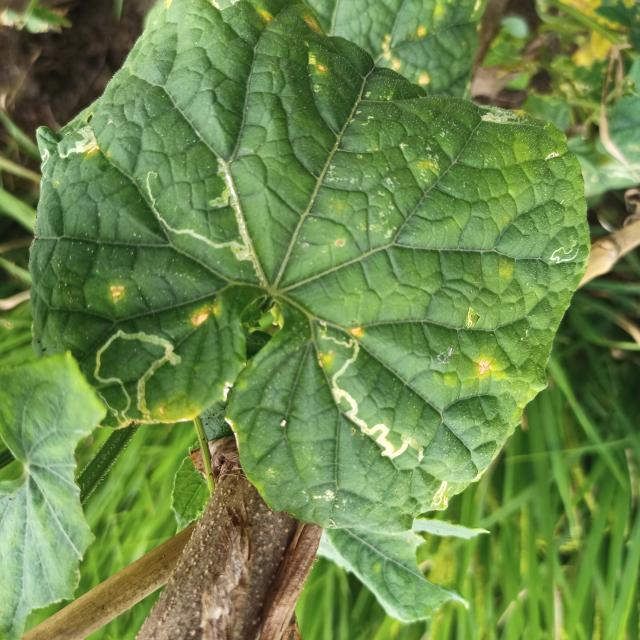disease_cucumber: (187, 299, 217, 327), (305, 52, 326, 74), (477, 357, 495, 377), (107, 281, 123, 302), (319, 348, 336, 367), (347, 326, 366, 339)
